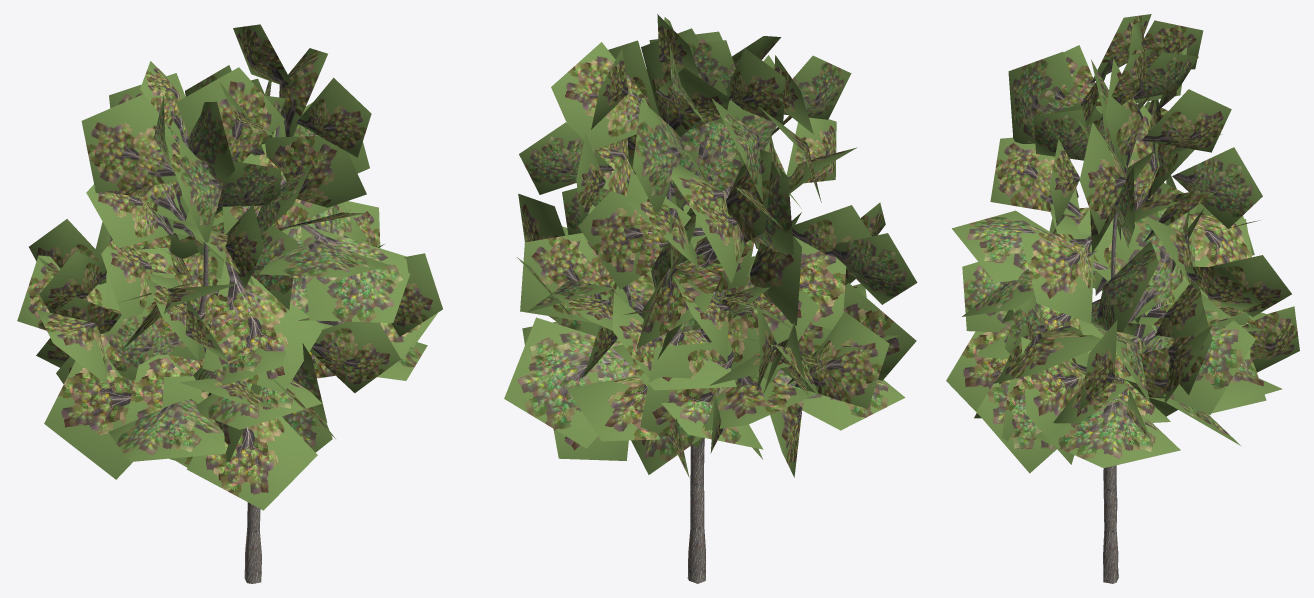
Rendered from Japanese_Maple_LowPoly.glb.
3 views of the same model, side by side, from view 1: azimuth 30°, elevation 25°; view 2: azimuth 150°, elevation 25°; view 3: azimuth 270°, elevation 25° (orthographic). The views are drawn at different scales.
Visible parts, largest first — view 1: Japanese_Maple_Mobile_23; view 2: Japanese_Maple_Mobile_23; view 3: Japanese_Maple_Mobile_23.
Part boxes in pixels (x1,y1,x2,y2): Japanese_Maple_Mobile_23: (17,24,442,583); Japanese_Maple_Mobile_23: (504,14,917,583); Japanese_Maple_Mobile_23: (946,14,1299,583).
Bounding box in the file's own units: 2.06 × 2.75 × 1.64.
Materials: 4 (4 with a texture image).
